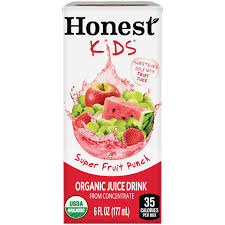Juice_Box: (58, 6, 167, 225)
